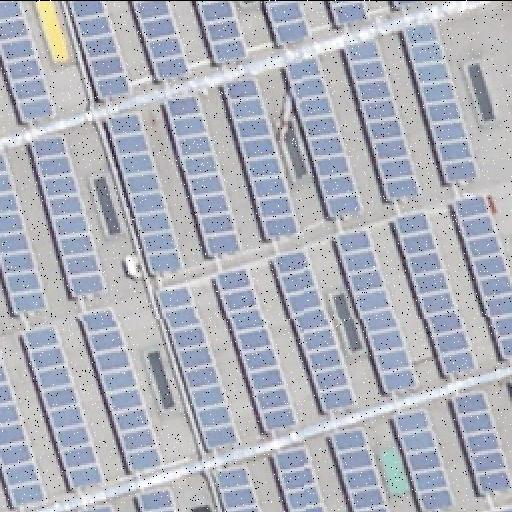solar-panel: (21, 321, 107, 487), (212, 267, 300, 429), (332, 226, 416, 394), (158, 282, 242, 450), (393, 210, 479, 374), (80, 305, 164, 471), (272, 248, 356, 408), (400, 20, 480, 184), (284, 54, 364, 218), (164, 92, 244, 256), (106, 111, 186, 273), (30, 135, 110, 297), (221, 75, 299, 237), (344, 36, 420, 200), (449, 194, 511, 358), (0, 151, 52, 313), (0, 355, 48, 509), (0, 0, 58, 122), (449, 386, 511, 498), (391, 408, 457, 512), (70, 0, 134, 100), (325, 424, 387, 512), (133, 0, 195, 80), (270, 444, 326, 512), (197, 0, 251, 64), (214, 464, 262, 512), (263, 0, 313, 44), (136, 484, 180, 512), (327, 0, 369, 26), (77, 500, 115, 512), (492, 505, 512, 511), (395, 1, 413, 7), (508, 379, 512, 389), (0, 125, 4, 131)
